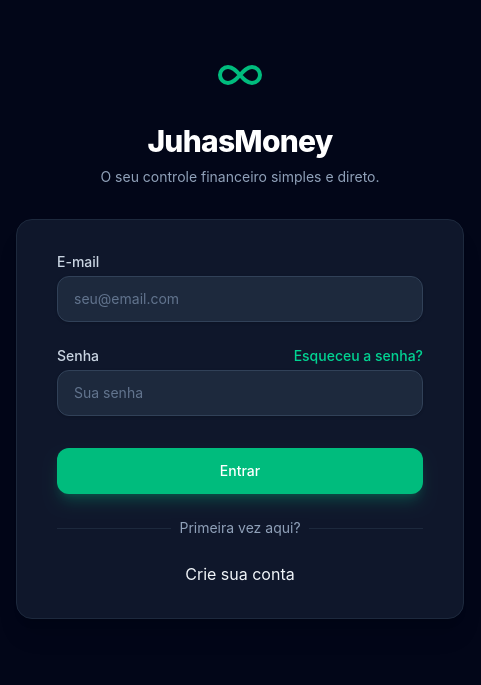
Test case: Login Component › should handle reset password request
Type "test@example.com" into the field with placeholder "seu@email.com". click: (240, 299)
box: [57,276,423,322]
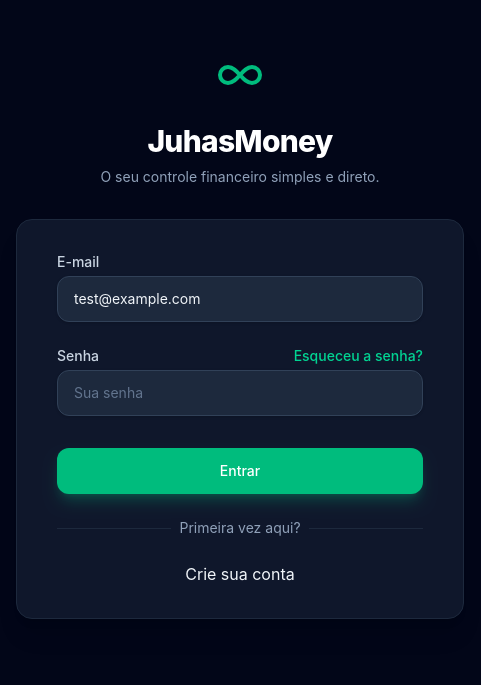
Click the button "Esqueceu a senha?". click: (358, 356)
box: [294,346,423,366]
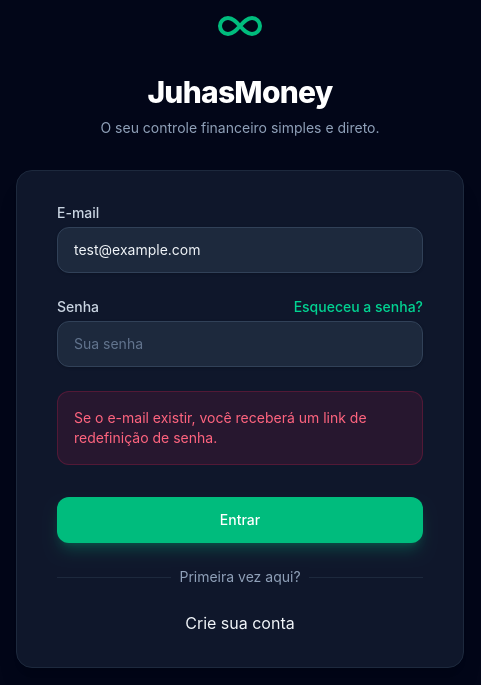
Now the text "Se o e-mail existir, você receberá um link de redefinição de senha." is shown, box [57,391,423,465]
